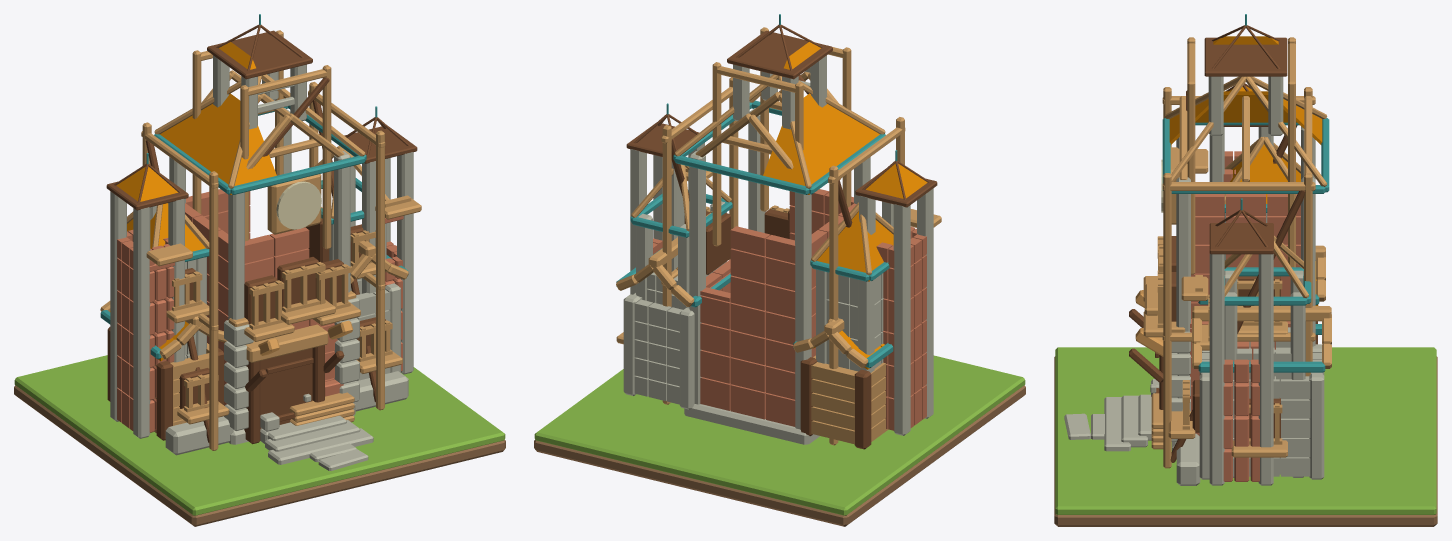
The model's file is town_hall_l10_construction_LOD0.glb.
The picture shows the model from 3 angles, left to right: view 1: azimuth 30°, elevation 25°; view 2: azimuth 150°, elevation 25°; view 3: azimuth 270°, elevation 25°; orthographic projection. The views are drawn at different scales.
Visible parts, largest first — view 1: town_hall_l10_construction_grass_tile, town_hall_l10_construction_earth_tile, town_hall_l10_construction_corner_reinforcement.024, town_hall_l10_construction_scaffold_post, town_hall_l10_construction_corner_reinforcement.030, town_hall_l10_construction_door_recess, town_hall_l10_construction_central_spire_cornice, town_hall_l10_construction_scaffold_post.002, town_hall_l10_construction_hip_roof_shingle.011, town_hall_l10_construction_corner_reinforcement, town_hall_l10_construction_corner_reinforcement.025, town_hall_l10_construction_corner_reinforcement.002 (+42 smaller); view 2: town_hall_l10_construction_grass_tile, town_hall_l10_construction_earth_tile, town_hall_l10_construction_corner_reinforcement.025, town_hall_l10_construction_corner_reinforcement.001, town_hall_l10_construction_corner_reinforcement.003, town_hall_l10_construction_central_spire_cornice, town_hall_l10_construction_hip_roof_shingle.011, town_hall_l10_construction_corner_reinforcement.024, town_hall_l10_construction_foundation, town_hall_l10_construction_scaffold_post.001, town_hall_l10_construction_tower_frame_upright.003, town_hall_l10_construction_scaffold_post.003 (+54 smaller); view 3: town_hall_l10_construction_grass_tile, town_hall_l10_construction_earth_tile, town_hall_l10_construction_corner_reinforcement.030, town_hall_l10_construction_corner_reinforcement.031, town_hall_l10_construction_central_spire_cornice, town_hall_l10_construction_scaffold_post.002, town_hall_l10_construction_right_spire_cornice, town_hall_l10_construction_corner_reinforcement.002, town_hall_l10_construction_corner_reinforcement.011, town_hall_l10_construction_scaffold_post.003, town_hall_l10_construction_scaffold_rail.003, town_hall_l10_construction_ridge_cap.005 (+44 smaller).
Boxes of the visible parts, x1,y1,x2,y2 form: town_hall_l10_construction_grass_tile: (14,355,505,515); town_hall_l10_construction_earth_tile: (14,385,505,526); town_hall_l10_construction_corner_reinforcement.024: (133,207,150,438); town_hall_l10_construction_scaffold_post: (209,171,218,450); town_hall_l10_construction_corner_reinforcement.030: (397,152,413,374); town_hall_l10_construction_door_recess: (260,348,312,428); town_hall_l10_construction_central_spire_cornice: (207,30,312,79); town_hall_l10_construction_scaffold_post.002: (376,130,384,410); town_hall_l10_construction_hip_roof_shingle.011: (160,116,236,194); town_hall_l10_construction_corner_reinforcement: (228,192,244,319); town_hall_l10_construction_corner_reinforcement.025: (110,191,126,421); town_hall_l10_construction_corner_reinforcement.002: (334,151,350,292); town_hall_l10_construction_grass_tile: (534,355,1025,515); town_hall_l10_construction_earth_tile: (534,385,1025,526); town_hall_l10_construction_corner_reinforcement.025: (893,204,910,435); town_hall_l10_construction_corner_reinforcement.001: (795,192,811,429); town_hall_l10_construction_corner_reinforcement.003: (689,151,705,404); town_hall_l10_construction_central_spire_cornice: (727,30,832,79); town_hall_l10_construction_hip_roof_shingle.011: (803,116,879,194); town_hall_l10_construction_corner_reinforcement.024: (917,188,933,418); town_hall_l10_construction_foundation: (684,404,819,444); town_hall_l10_construction_scaffold_post.001: (829,165,838,445); town_hall_l10_construction_tower_frame_upright.003: (712,62,721,246); town_hall_l10_construction_scaffold_post.003: (662,125,671,404); town_hall_l10_construction_grass_tile: (1055,347,1436,514); town_hall_l10_construction_earth_tile: (1054,356,1437,526); town_hall_l10_construction_corner_reinforcement.030: (1209,254,1224,485); town_hall_l10_construction_corner_reinforcement.031: (1258,254,1273,485); town_hall_l10_construction_central_spire_cornice: (1204,37,1287,76); town_hall_l10_construction_scaffold_post.002: (1163,173,1171,468); town_hall_l10_construction_right_spire_cornice: (1209,223,1273,254); town_hall_l10_construction_corner_reinforcement.002: (1176,177,1190,398); town_hall_l10_construction_corner_reinforcement.011: (1309,373,1324,479); town_hall_l10_construction_scaffold_post.003: (1304,173,1312,376); town_hall_l10_construction_scaffold_rail.003: (1162,182,1315,190); town_hall_l10_construction_ridge_cap.005: (1192,306,1331,321).
Size of the model in its own units: 3.6 by 4.49 by 3.6.
